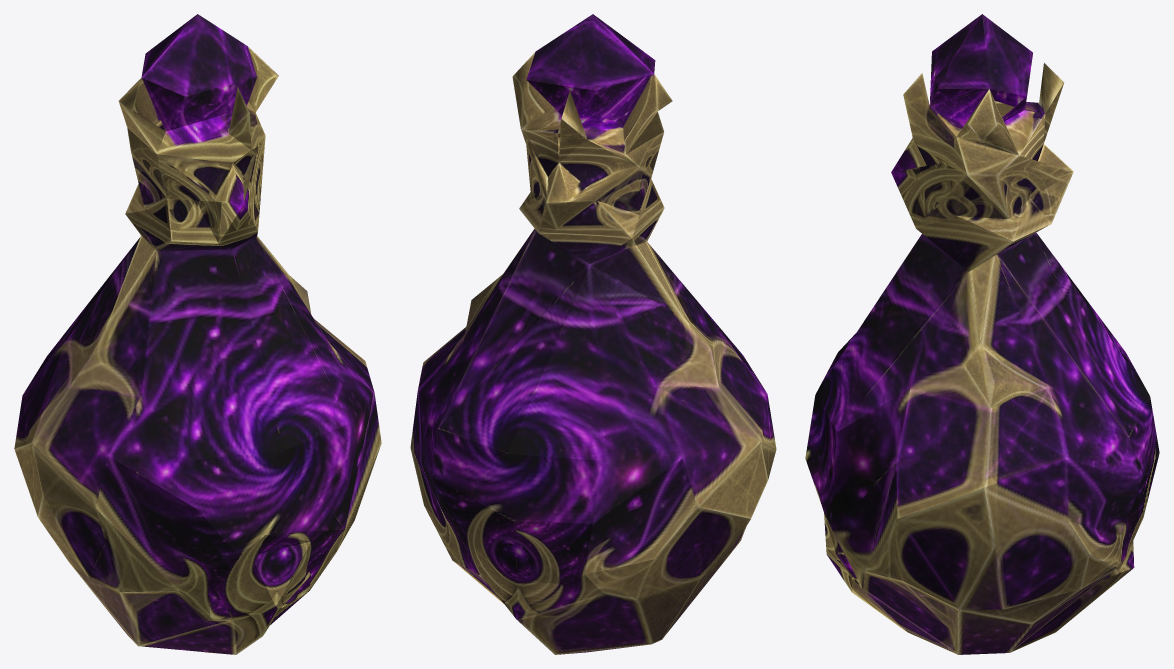
The model's file is SM_Flask_Dark.fbx.
3 views of the same model, side by side, from view 1: azimuth 30°, elevation 25°; view 2: azimuth 150°, elevation 25°; view 3: azimuth 270°, elevation 25° (orthographic).
Visible parts, largest first — view 1: SM_Flask_Dark; view 2: SM_Flask_Dark; view 3: SM_Flask_Dark.
Boxes of the visible parts, box(x1,y1,x2,y2) form: SM_Flask_Dark: box(14, 14, 381, 654); SM_Flask_Dark: box(410, 14, 776, 654); SM_Flask_Dark: box(805, 14, 1159, 654).
Size of the model in its own units: 22.13 by 40 by 20.12.
